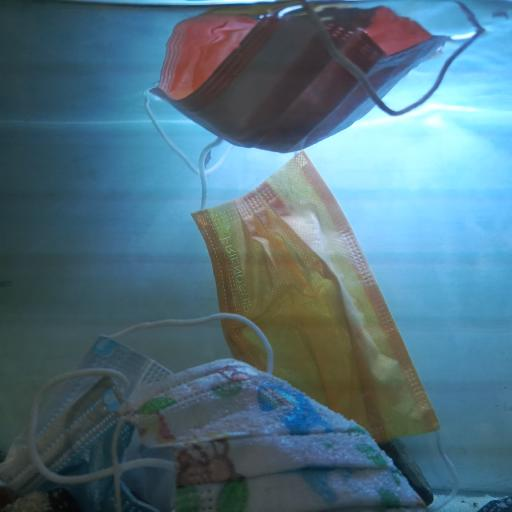mask: (192, 149, 442, 442), (0, 312, 274, 512), (142, 0, 476, 156), (110, 356, 428, 512)
